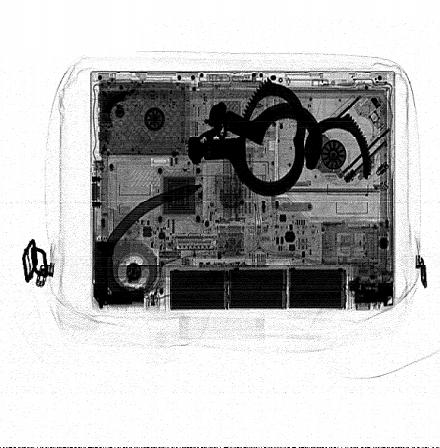HandCuffs: (187, 76, 373, 197)
